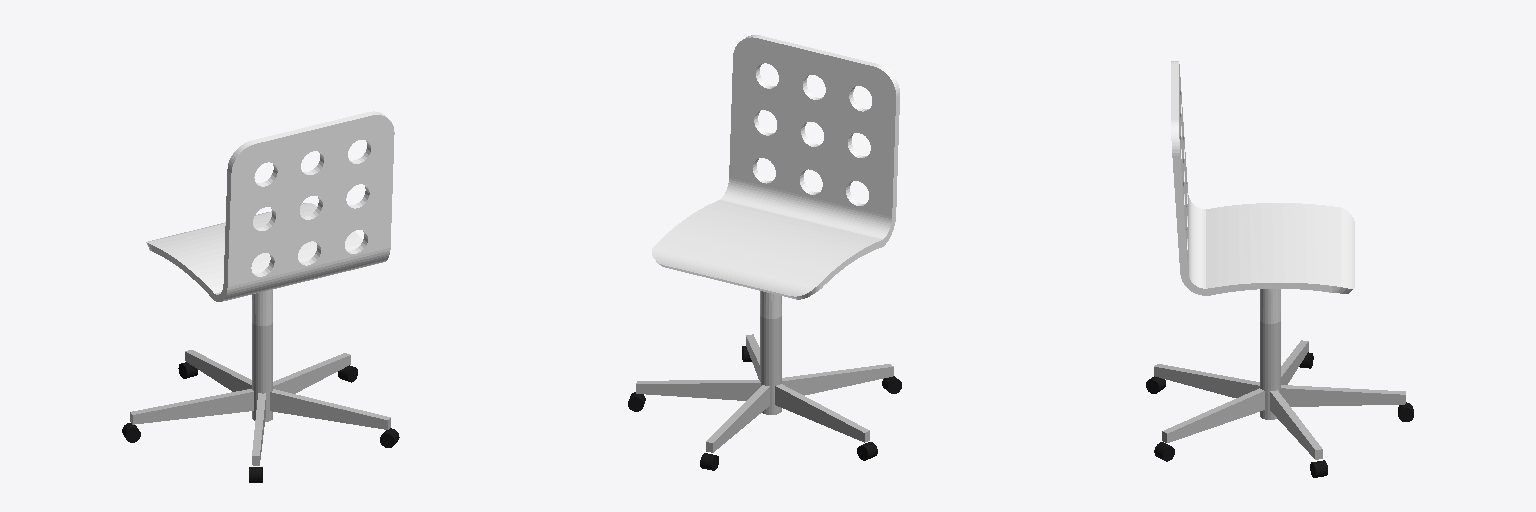
3 renders of one model, left to right at view 1: azimuth 30°, elevation 25°; view 2: azimuth 150°, elevation 25°; view 3: azimuth 270°, elevation 25°, orthographic.
Parts seen in each view (by area): view 1: Mesh1 Group2 Group1 Model, Mesh12 Group3 ske3F1 Group1 Model, Mesh7 Group6 Group3 ske3F1 Group1 Model, Mesh5 Group5 Group3 ske3F1 Group1 Model, Mesh11 Group8 Group3 ske3F1 Group1 Model, Mesh3 Group4 Group3 ske3F1 Group1 Model, Mesh9 Group7 Group3 ske3F1 Group1 Model; view 2: Mesh1 Group2 Group1 Model, Mesh12 Group3 ske3F1 Group1 Model, Mesh11 Group8 Group3 ske3F1 Group1 Model, Mesh7 Group6 Group3 ske3F1 Group1 Model, Mesh9 Group7 Group3 ske3F1 Group1 Model, Mesh3 Group4 Group3 ske3F1 Group1 Model; view 3: Mesh1 Group2 Group1 Model, Mesh12 Group3 ske3F1 Group1 Model, Mesh3 Group4 Group3 ske3F1 Group1 Model, Mesh5 Group5 Group3 ske3F1 Group1 Model, Mesh9 Group7 Group3 ske3F1 Group1 Model, Mesh11 Group8 Group3 ske3F1 Group1 Model, Mesh7 Group6 Group3 ske3F1 Group1 Model.
Part boxes in pixels (bbox=[...]): Mesh1 Group2 Group1 Model: bbox=[146, 111, 394, 301]; Mesh12 Group3 ske3F1 Group1 Model: bbox=[252, 290, 272, 421]; Mesh7 Group6 Group3 ske3F1 Group1 Model: bbox=[130, 389, 253, 424]; Mesh5 Group5 Group3 ske3F1 Group1 Model: bbox=[270, 389, 390, 429]; Mesh11 Group8 Group3 ske3F1 Group1 Model: bbox=[273, 353, 350, 393]; Mesh3 Group4 Group3 ske3F1 Group1 Model: bbox=[185, 350, 251, 391]; Mesh9 Group7 Group3 ske3F1 Group1 Model: bbox=[252, 393, 265, 465]; Mesh1 Group2 Group1 Model: bbox=[652, 35, 899, 299]; Mesh12 Group3 ske3F1 Group1 Model: bbox=[760, 291, 781, 414]; Mesh11 Group8 Group3 ske3F1 Group1 Model: bbox=[636, 380, 760, 400]; Mesh7 Group6 Group3 ske3F1 Group1 Model: bbox=[775, 384, 869, 442]; Mesh9 Group7 Group3 ske3F1 Group1 Model: bbox=[782, 364, 893, 395]; Mesh3 Group4 Group3 ske3F1 Group1 Model: bbox=[706, 385, 769, 452]; Mesh1 Group2 Group1 Model: bbox=[1171, 61, 1354, 295]; Mesh12 Group3 ske3F1 Group1 Model: bbox=[1260, 289, 1280, 419]; Mesh3 Group4 Group3 ske3F1 Group1 Model: bbox=[1280, 385, 1405, 406]; Mesh5 Group5 Group3 ske3F1 Group1 Model: bbox=[1162, 388, 1264, 442]; Mesh9 Group7 Group3 ske3F1 Group1 Model: bbox=[1154, 364, 1259, 397]; Mesh11 Group8 Group3 ske3F1 Group1 Model: bbox=[1270, 390, 1322, 459]; Mesh7 Group6 Group3 ske3F1 Group1 Model: bbox=[1281, 340, 1308, 384].
Size of the model in its own units: 0.5504 by 0.7265 by 0.5328.